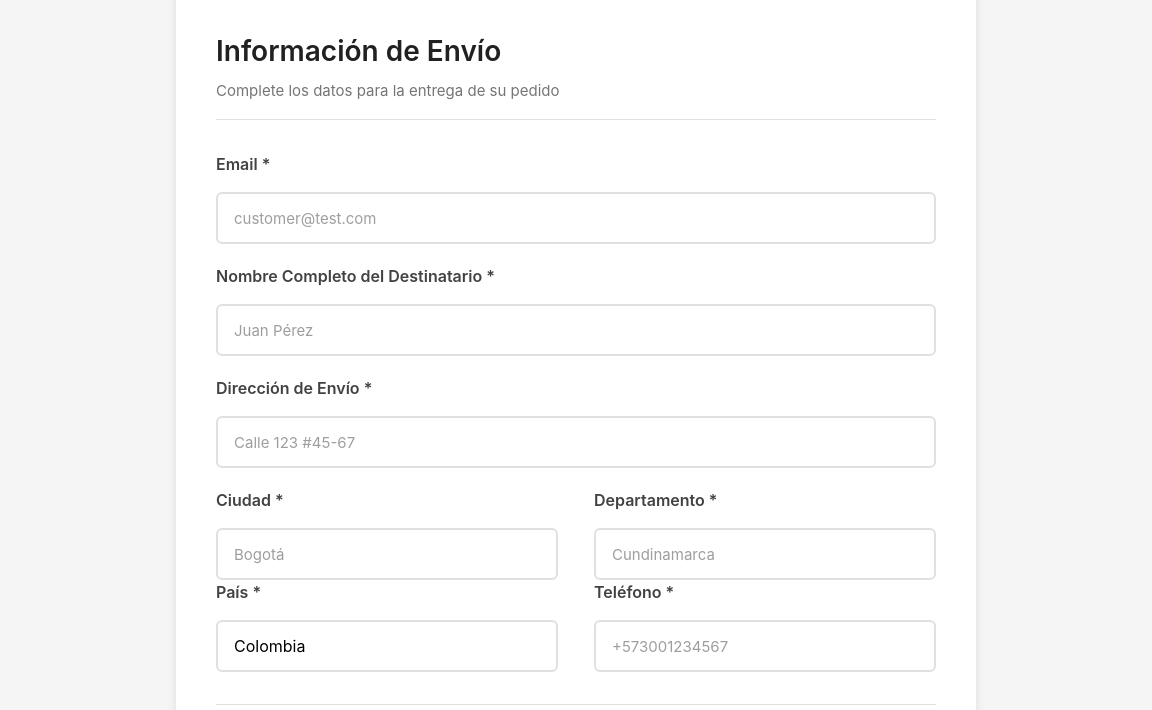
Test: DeliveryForm Component › Validaciones específicas › debe validar que el nombre tenga al menos 3 caracteres
In the field labelled "Nombre Completo del Destinatario *": (576, 330) [216,304,936,356], type "ab"
(page scrolled)
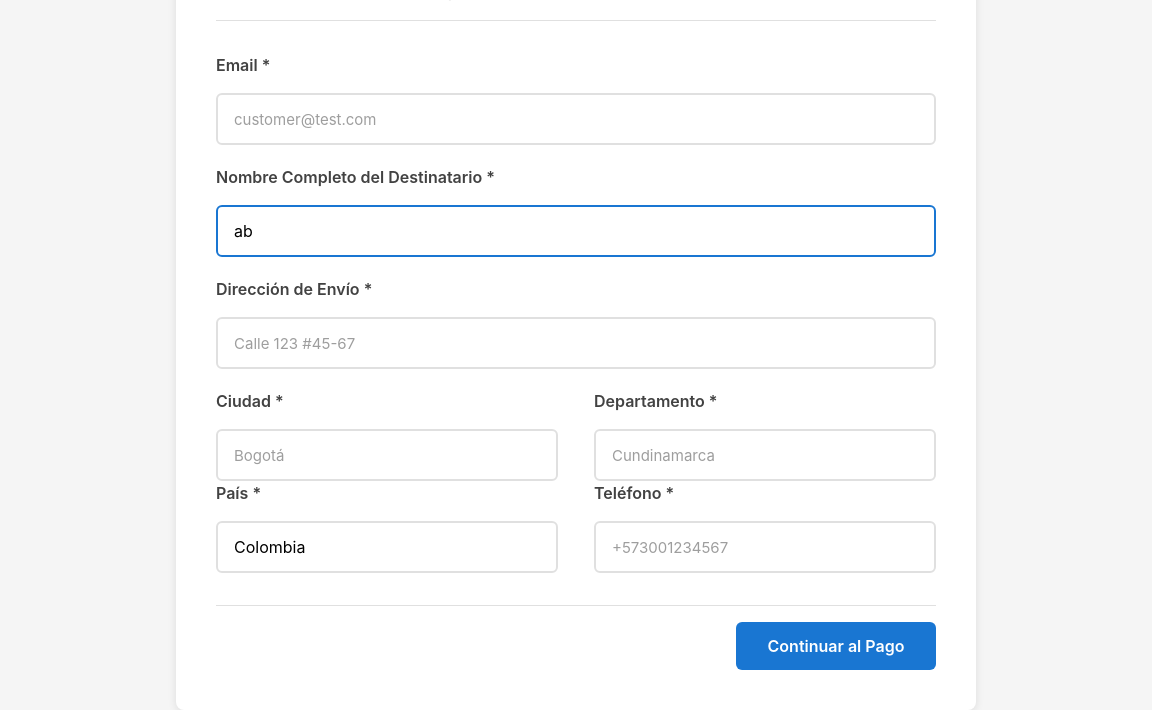
Click the button "Continuar al Pago": (836, 646) [736,622,936,670]
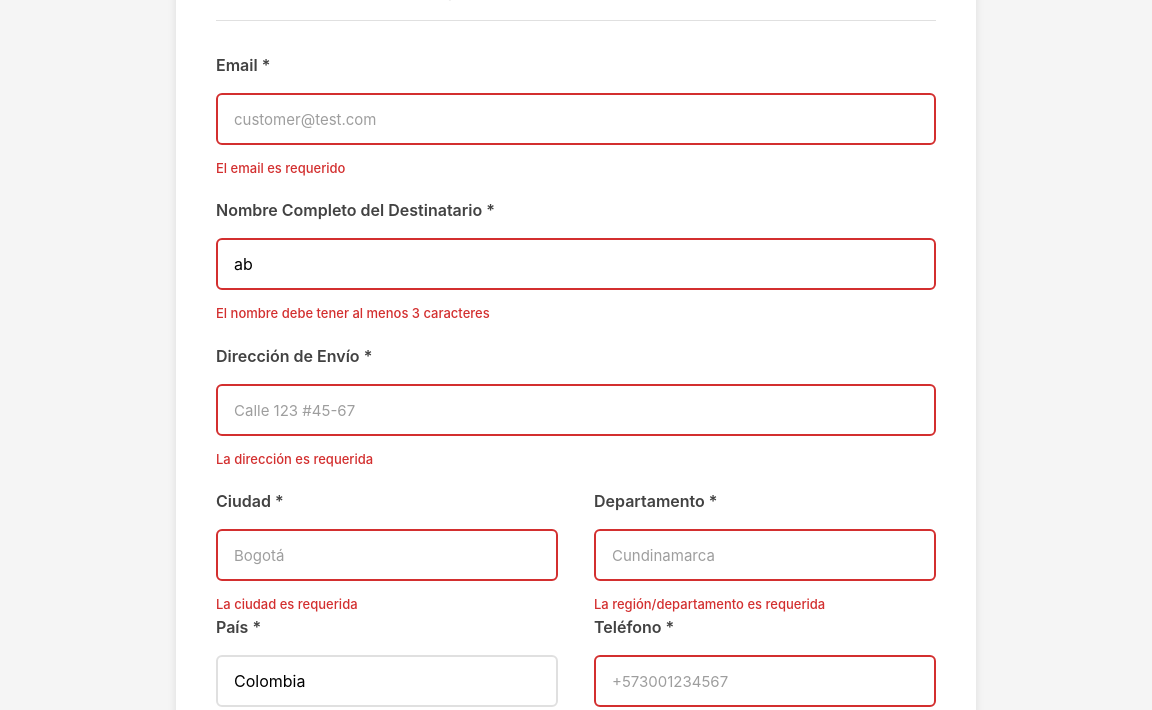
Now the text "El nombre debe tener al menos 3 caracteres" is shown, box [216,305,490,321]
